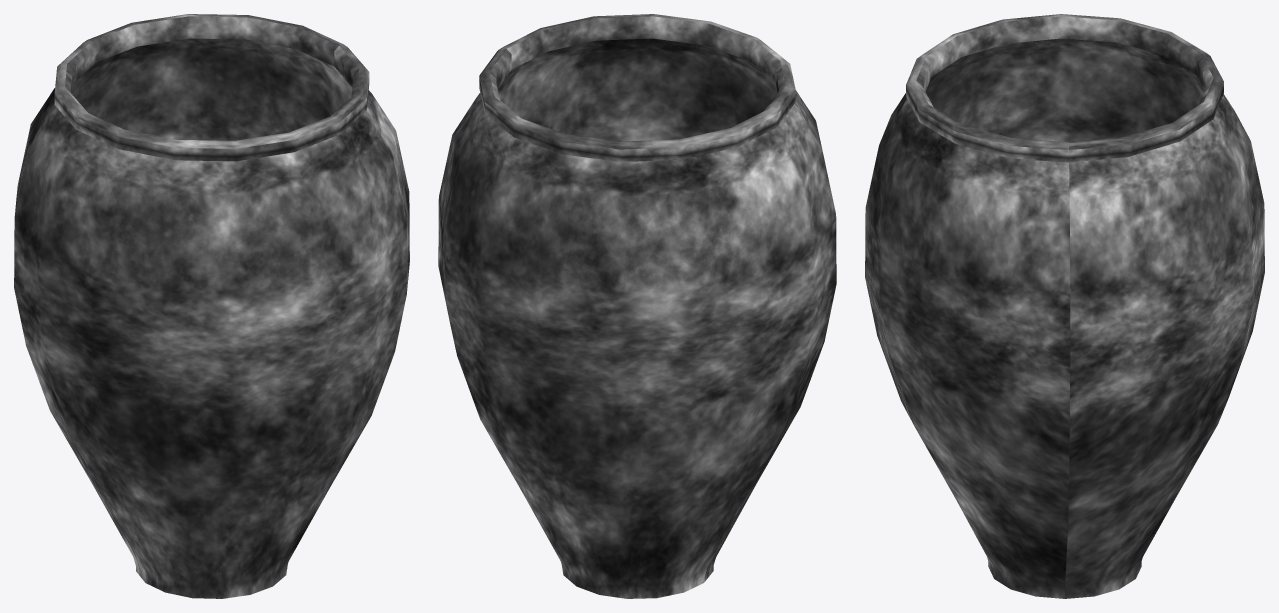
The model's file is SM_vase_05.fbx.
3 views of the same model, side by side, from view 1: azimuth 30°, elevation 25°; view 2: azimuth 150°, elevation 25°; view 3: azimuth 270°, elevation 25° (orthographic).
Visible parts, largest first — view 1: SM_vase_05_LOD0; view 2: SM_vase_05_LOD0; view 3: SM_vase_05_LOD0.
Part boxes in pixels (x1,y1,x2,y2): SM_vase_05_LOD0: (14, 14, 409, 598); SM_vase_05_LOD0: (438, 14, 836, 598); SM_vase_05_LOD0: (865, 14, 1264, 598).
Bounding box in the file's own units: 70.66 × 70.66 × 95.01.
